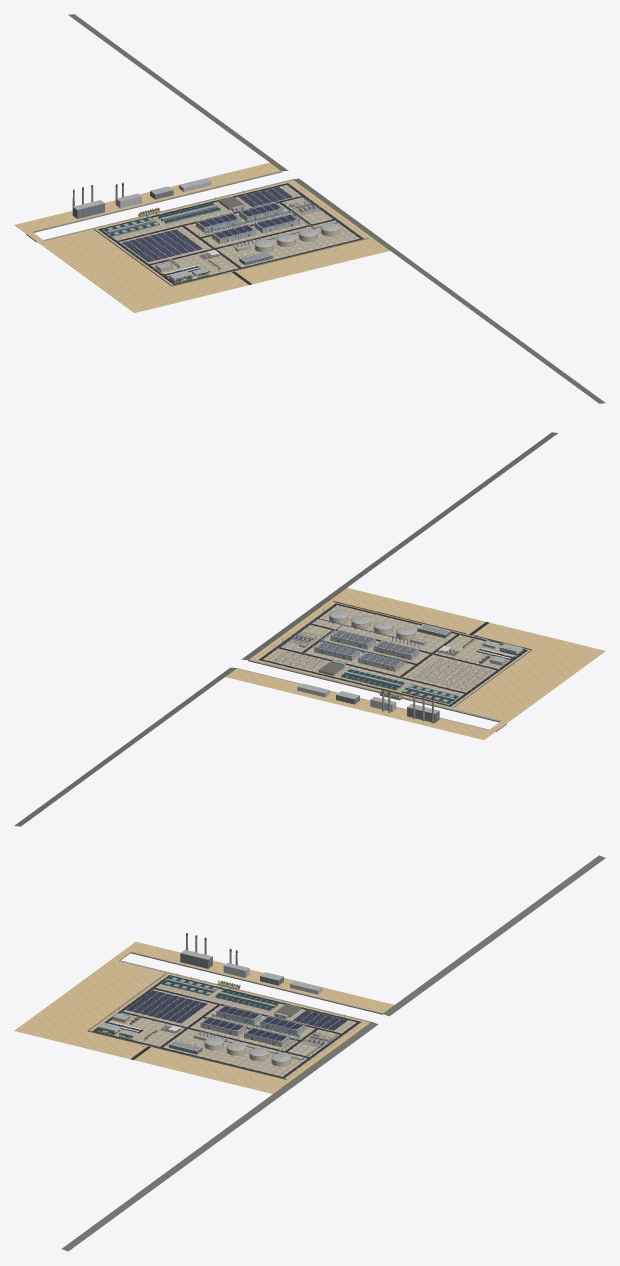
Rendered from taweelah.glb.
3 views of the same model, one above another, from view 1: azimuth 30°, elevation 25°; view 2: azimuth 150°, elevation 25°; view 3: azimuth 330°, elevation 25° (orthographic).
Parts seen in each view (by area): view 1: Ground, Solar, Buildings, Process, Roads, Context; view 2: Ground, Buildings, Process, Roads, Context, Solar; view 3: Ground, Solar, Buildings, Process, Roads, Context.
Part boxes in pixels (x1,y1,x2,y2): Ground: (14,14,605,403); Solar: (122,187,296,262); Buildings: (94,202,368,286); Process: (103,196,320,267); Roads: (98,183,363,284); Context: (72,178,211,218); Ground: (14,432,605,826); Buildings: (299,601,532,707); Process: (289,616,490,704); Roads: (259,603,527,706); Context: (297,683,439,723); Solar: (275,631,493,689); Ground: (14,855,605,1251); Solar: (126,990,347,1040); Buildings: (87,973,320,1079); Process: (129,976,330,1061); Roads: (92,975,360,1078); Context: (180,933,322,994).
Bounding box in the file's own units: 856 × 81.5 × 3000.
Materials: 48 (29 with a texture image).
